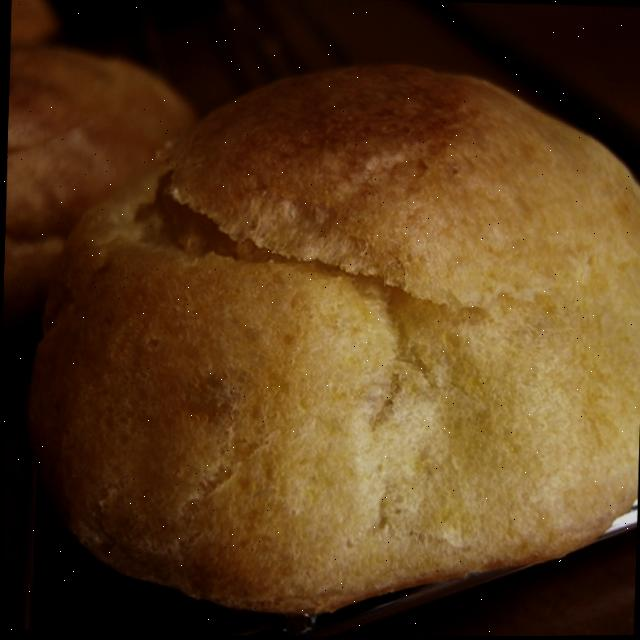炸货点心: (0, 21, 640, 621)
蛋糕甜品: (0, 21, 640, 621)
